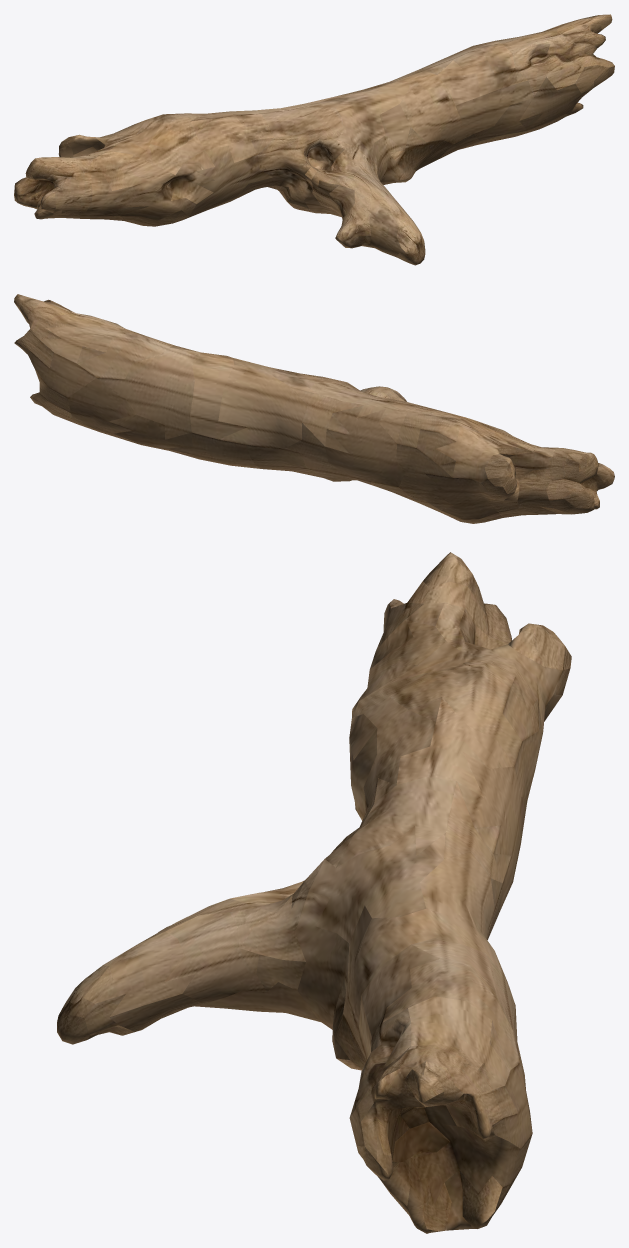
The model's file is chaos-driftwood.glb.
3 views of the same model, one above another, from view 1: azimuth 30°, elevation 25°; view 2: azimuth 150°, elevation 25°; view 3: azimuth 270°, elevation 25° (orthographic). The views are drawn at different scales.
Parts seen in each view (by area): view 1: mesh_node; view 2: mesh_node; view 3: mesh_node.
Part boxes in pixels (<box>): mesh_node: <box>14,14,614,265</box>; mesh_node: <box>14,294,614,523</box>; mesh_node: <box>57,552,571,1233</box>.
Bounding box in the file's own units: 1 × 0.1924 × 0.3848.
1 material, 1 textured.
